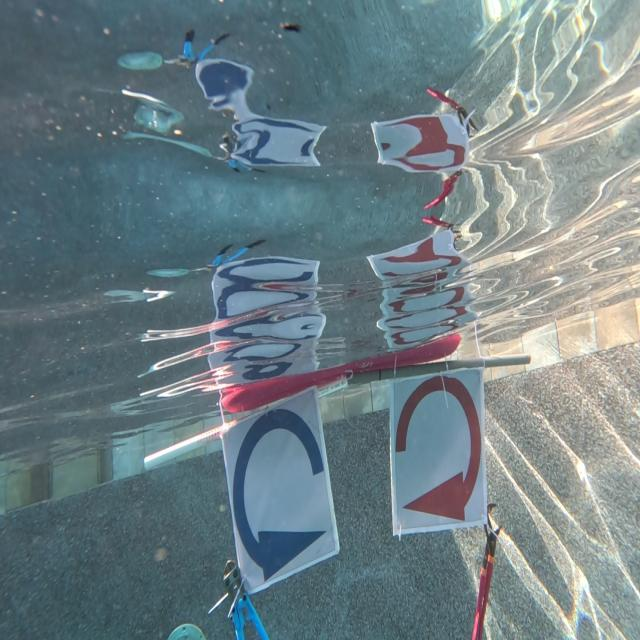blue_side: (230, 399, 335, 593)
red_side: (394, 386, 484, 530)
